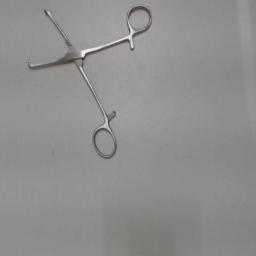Allis Tissue Forceps: (24, 3, 154, 163)
